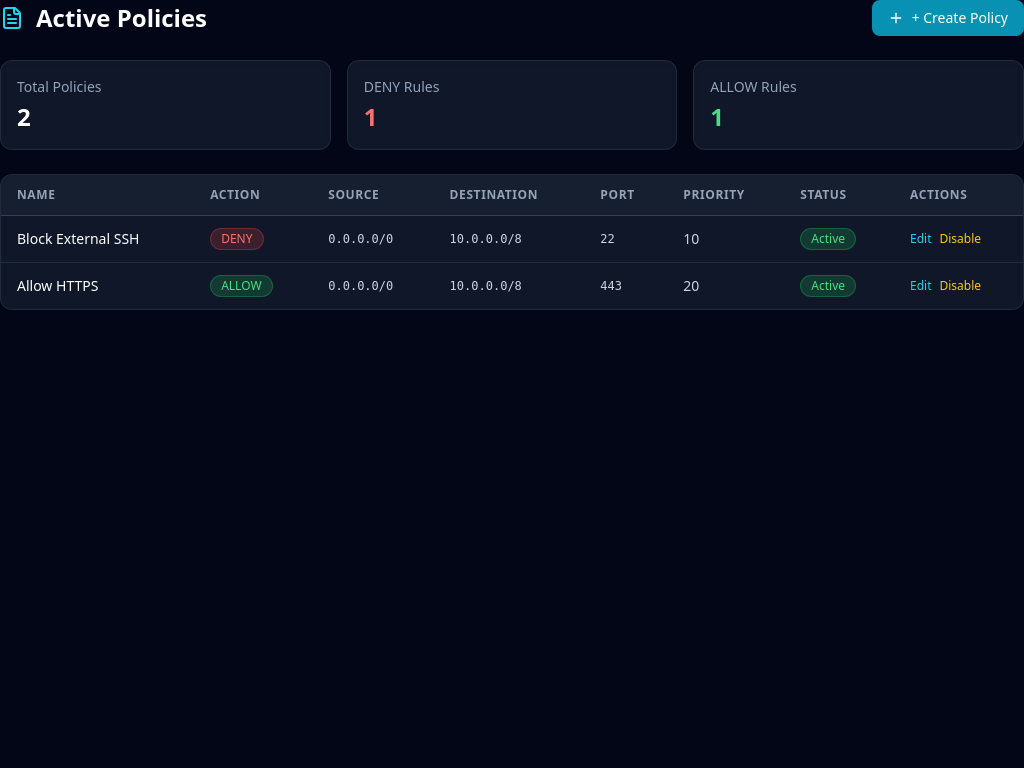
Test case: Policies › opens create modal when "+ Create Policy" is clicked
The image size is (1024, 768).
Expected: the text "Block External SSH" is shown, [1,216,194,262]
Click the button "+ Create Policy": (948, 18) [872,0,1023,36]
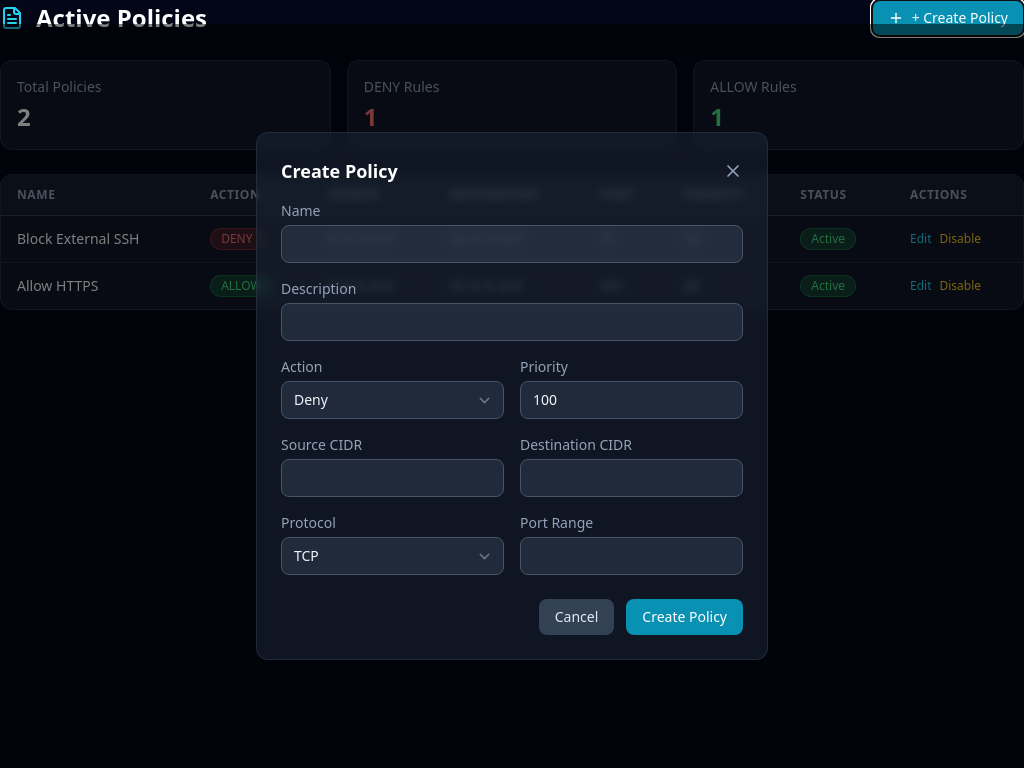
Result: the heading "Create Policy" is shown at [281,157,398,185]
